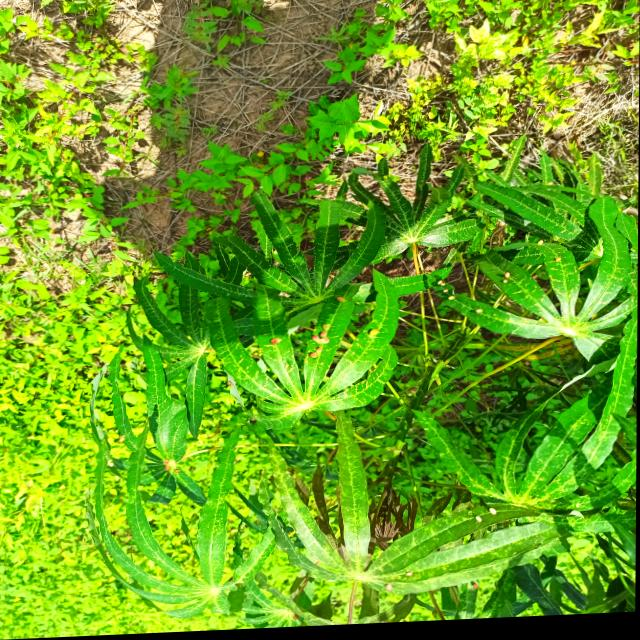Maleza: (0, 0, 218, 221), (356, 0, 633, 138), (0, 232, 84, 633)
Mosca: (309, 323, 337, 363), (435, 274, 454, 304), (365, 321, 383, 342), (262, 332, 281, 351), (531, 233, 548, 251), (334, 289, 351, 305), (472, 303, 484, 319), (501, 268, 511, 284), (550, 254, 563, 265)
